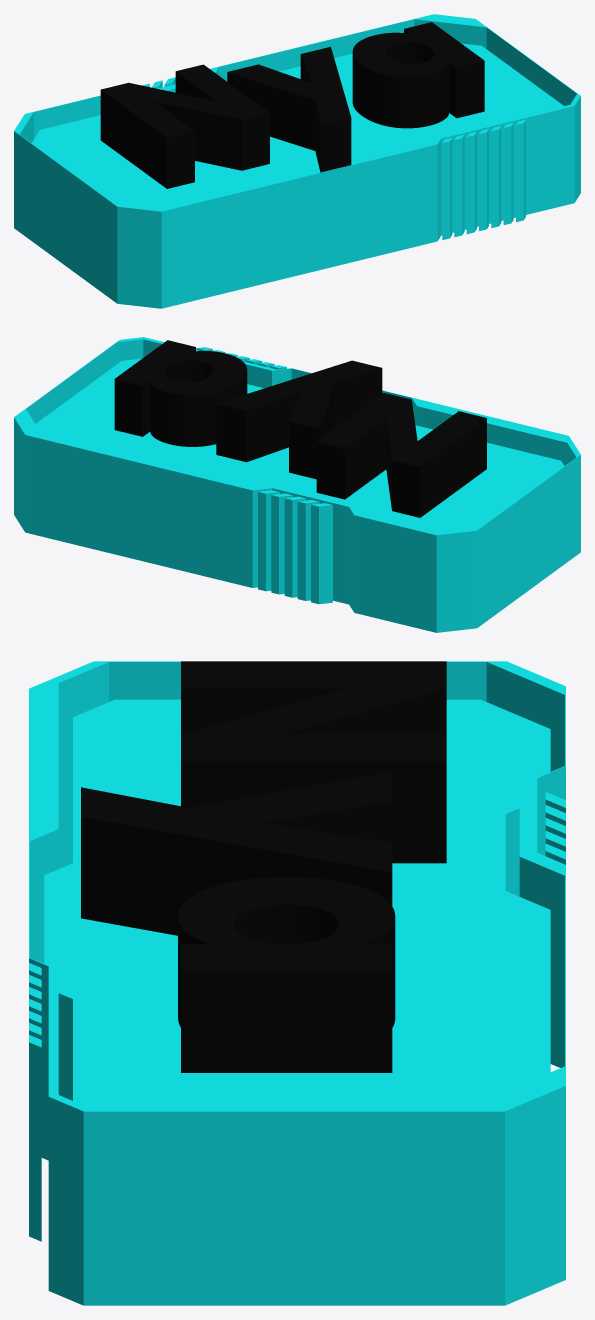
The model's file is 18.HurufNya.glb.
3 renders of one model, top to bottom at view 1: azimuth 30°, elevation 25°; view 2: azimuth 150°, elevation 25°; view 3: azimuth 270°, elevation 25°, orthographic. The views are drawn at different scales.
Visible parts, largest first — view 1: Curve.297, Curve.291, Curve.305, Curve.307, Curve.306, Curve.300, Curve.298, Curve.299, Curve.302, Curve.303, Curve.304, Curve.301; view 2: Curve.297, Curve.291, Curve.305, Curve.306, Curve.307, Curve.296, Curve.292, Curve.294, Curve.295, Curve.293; view 3: Curve.297, Curve.291, Curve.307, Curve.305, Curve.306, Curve.304.
Part boxes in pixels (x1=…): Curve.297: x1=14, y1=14, x2=580, y2=308; Curve.291: x1=31, y1=43, x2=563, y2=207; Curve.305: x1=100, y1=64, x2=269, y2=188; Curve.307: x1=352, y1=22, x2=484, y2=128; Curve.306: x1=227, y1=46, x2=351, y2=172; Curve.300: x1=466, y1=131, x2=476, y2=234; Curve.298: x1=442, y1=138, x2=452, y2=240; Curve.299: x1=454, y1=134, x2=464, y2=237; Curve.302: x1=491, y1=126, x2=501, y2=228; Curve.303: x1=503, y1=123, x2=513, y2=224; Curve.304: x1=516, y1=119, x2=525, y2=222; Curve.301: x1=479, y1=129, x2=488, y2=231; Curve.297: x1=14, y1=337, x2=580, y2=632; Curve.291: x1=36, y1=358, x2=564, y2=532; Curve.305: x1=316, y1=393, x2=486, y2=517; Curve.306: x1=216, y1=360, x2=382, y2=479; Curve.307: x1=114, y1=340, x2=247, y2=446; Curve.296: x1=311, y1=503, x2=332, y2=604; Curve.292: x1=258, y1=490, x2=279, y2=591; Curve.294: x1=284, y1=496, x2=306, y2=597; Curve.295: x1=297, y1=500, x2=319, y2=600; Curve.293: x1=271, y1=493, x2=292, y2=594; Curve.297: x1=29, y1=661, x2=565, y2=1305; Curve.291: x1=44, y1=699, x2=550, y2=1110; Curve.307: x1=178, y1=877, x2=395, y2=1072; Curve.305: x1=181, y1=661, x2=446, y2=863; Curve.306: x1=81, y1=771, x2=392, y2=935; Curve.304: x1=29, y1=1035, x2=41, y2=1241.
Bounding box in the file's own units: 0.2966 × 0.0812 × 0.1496.
